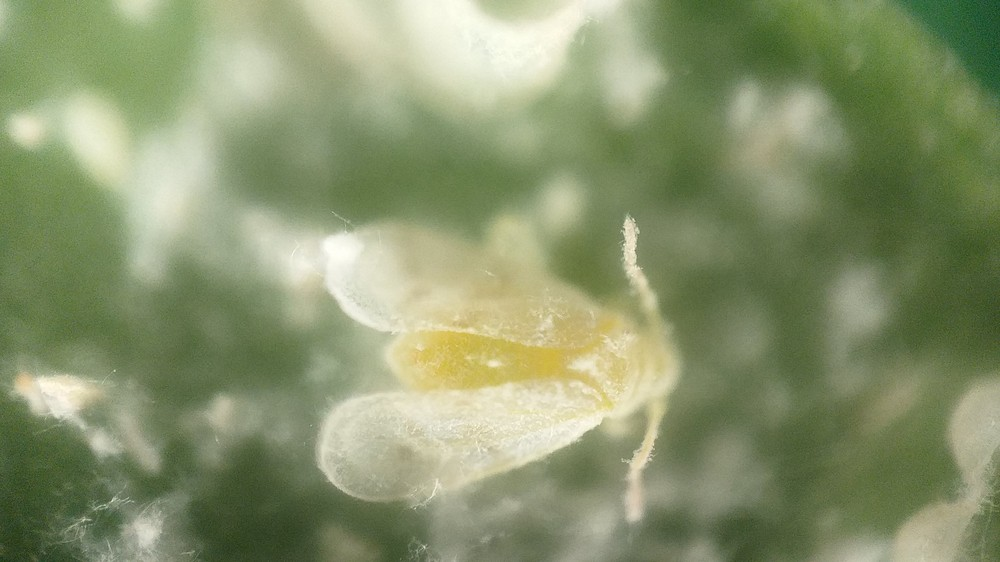Mosca Blanca: (291, 183, 699, 546)
